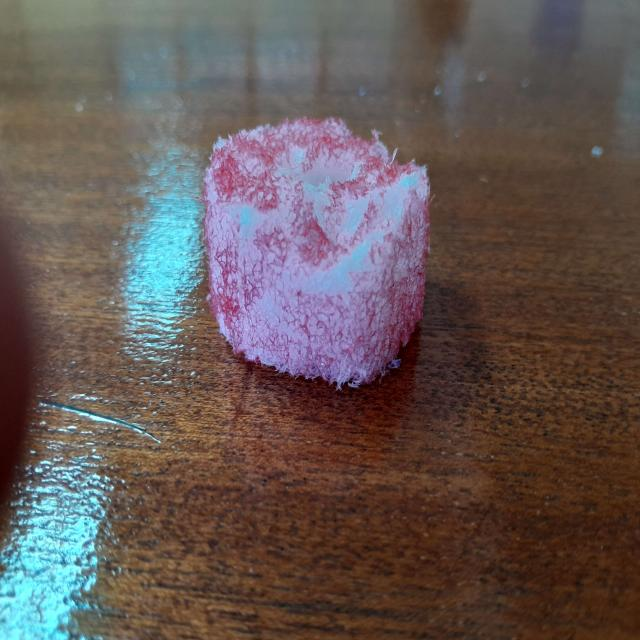wheel: (200, 108, 438, 388)
